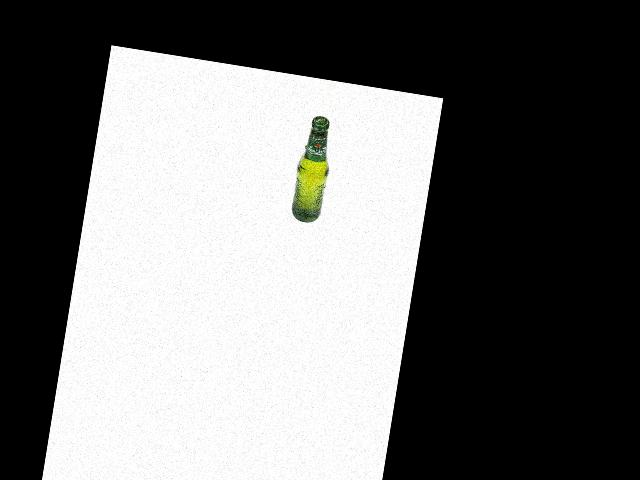beer: (288, 113, 337, 225)
